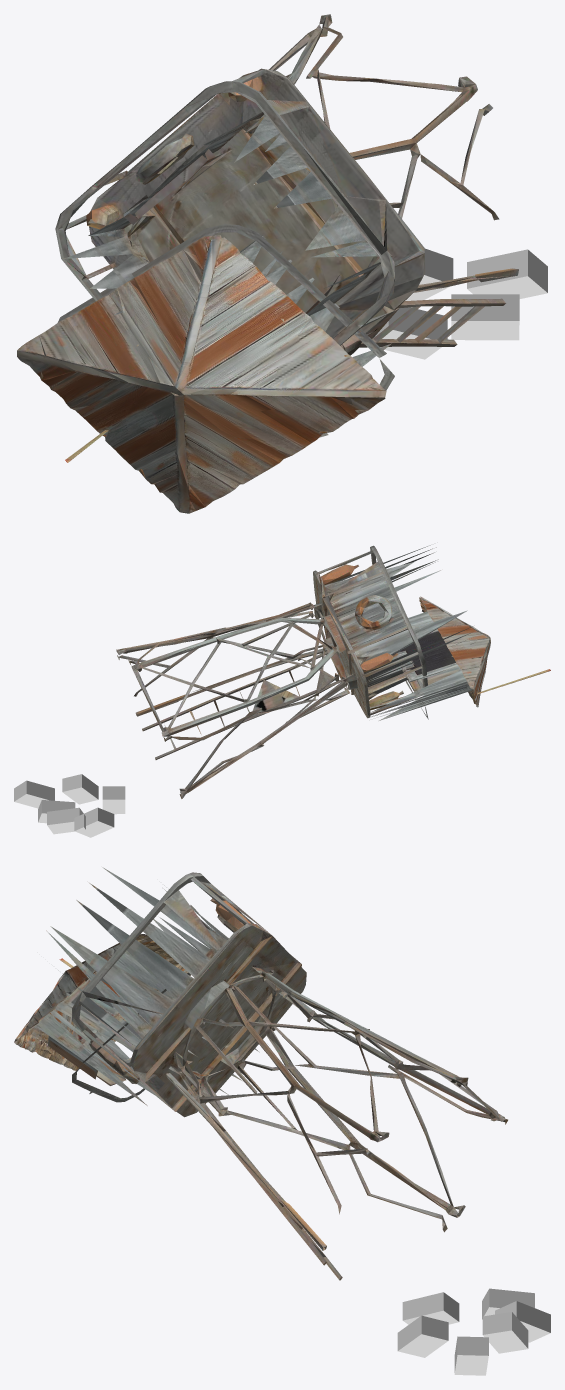
Rendered from militia_observation_post_wreck.glb.
The picture shows the model from 3 angles, top to bottom: view 1: azimuth 30°, elevation 25°; view 2: azimuth 150°, elevation 25°; view 3: azimuth 270°, elevation 25°; orthographic projection. The views are drawn at different scales.
Visible parts, largest first — view 1: wall, metal, wood; view 2: metal, wall, wood; view 3: metal, wall, wood.
Part boxes in pixels (left/top/right/bottom): wall: left=17, top=224, right=394, bottom=513; metal: left=55, top=14, right=518, bottom=355; wood: left=373, top=248, right=547, bottom=359; metal: left=116, top=545, right=473, bottom=798; wall: left=329, top=596, right=550, bottom=720; wood: left=14, top=774, right=125, bottom=837; metal: left=46, top=867, right=507, bottom=1280; wall: left=14, top=934, right=259, bottom=1105; wood: left=397, top=1288, right=550, bottom=1375.
Bounding box in the file's own units: 7.82 × 4.62 × 6.82.
1 material, 1 textured.
